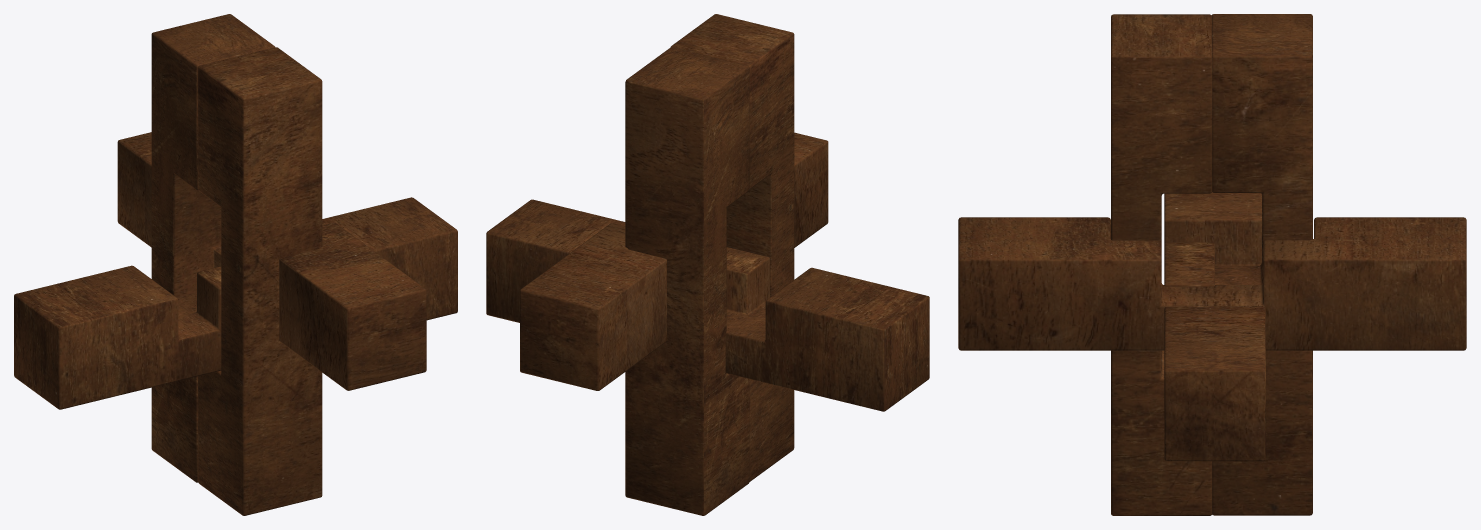
Rendered from step_04_luban_a_b_c_d.glb.
3 renders of one model, left to right at view 1: azimuth 30°, elevation 25°; view 2: azimuth 150°, elevation 25°; view 3: azimuth 270°, elevation 25°, orthographic. The views are drawn at different scales.
Parts seen in each view (by area): view 1: luban_c, luban_a, luban_d, luban_b; view 2: luban_b, luban_a, luban_d, luban_c; view 3: luban_d, luban_b, luban_c, luban_a.
Boxes of the visible parts, x1,y1,x2,y2 form: luban_c: (198,47,322,515); luban_a: (14,197,457,409); luban_d: (117,132,426,390); luban_b: (151,14,274,482); luban_b: (625,47,749,515); luban_a: (486,199,929,411); luban_d: (520,132,828,390); luban_c: (670,14,794,481); luban_d: (958,217,1466,350); luban_b: (1212,14,1312,515); luban_c: (1111,14,1212,515); luban_a: (1164,192,1265,461).
Bounding box in the file's own units: 10 × 10 × 10.
Materials: 1 (1 with a texture image).
